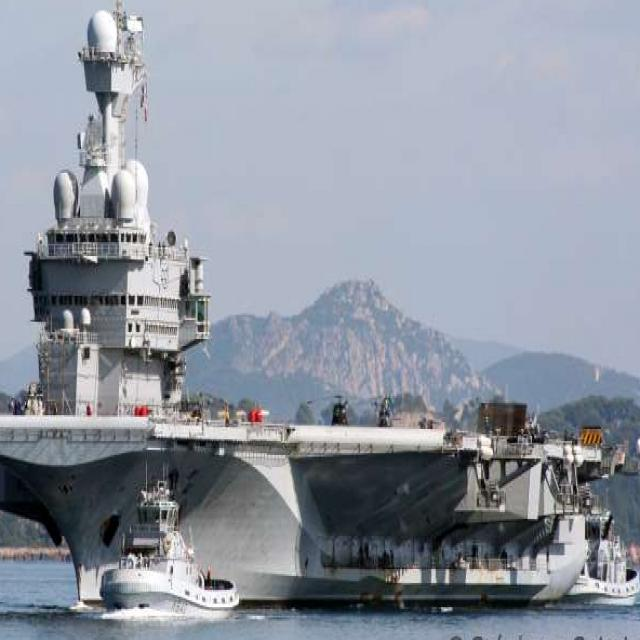Portanaves: (1, 1, 620, 617)
